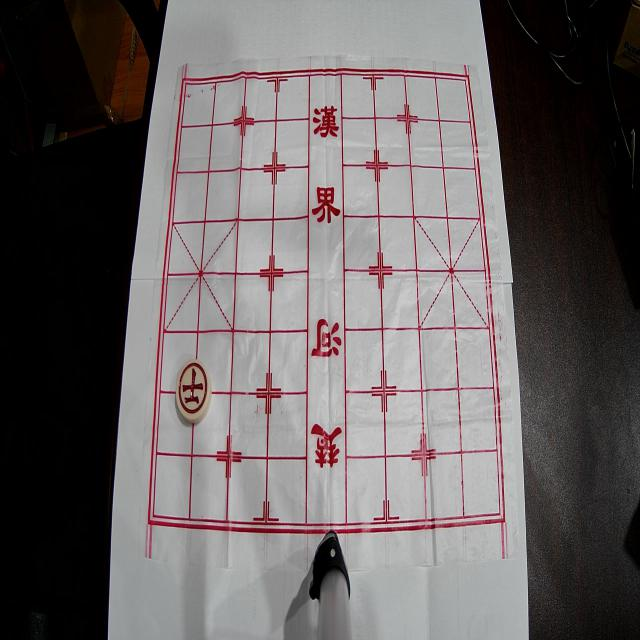red-guard: (176, 359, 212, 424)
